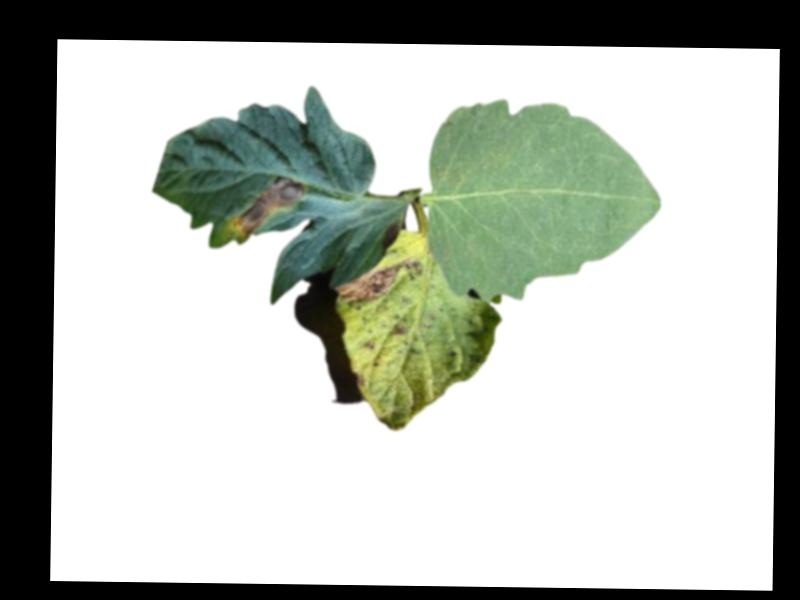Early_blight: (227, 175, 308, 241), (333, 259, 426, 308), (386, 320, 409, 337), (363, 339, 376, 355), (355, 373, 367, 388)
